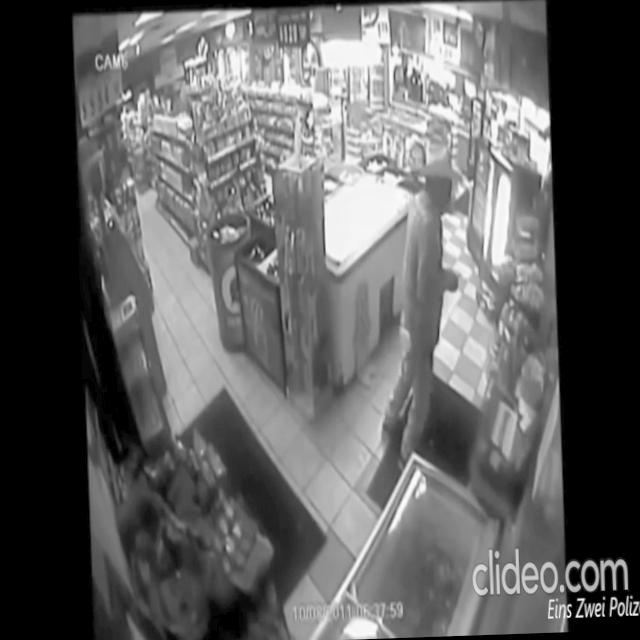person: (371, 142, 473, 480)
